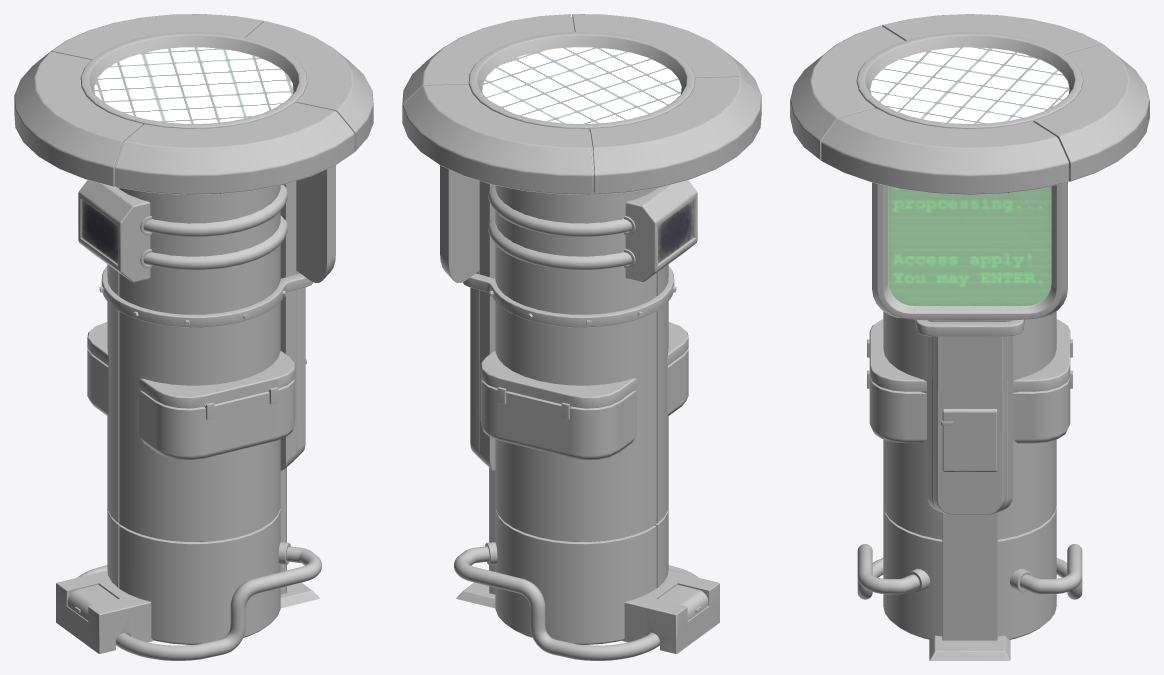
The model's file is temrinal.fbx.
The picture shows the model from 3 angles, left to right: view 1: azimuth 30°, elevation 25°; view 2: azimuth 150°, elevation 25°; view 3: azimuth 270°, elevation 25°; orthographic projection.
Parts seen in each view (by area): view 1: Prop; view 2: Prop; view 3: Prop.
Part boxes in pixels (x1,y1,x2,y2): Prop: (14, 14, 373, 660); Prop: (402, 14, 761, 660); Prop: (790, 14, 1149, 660).
Size of the model in its own units: 160 by 261 by 160.
